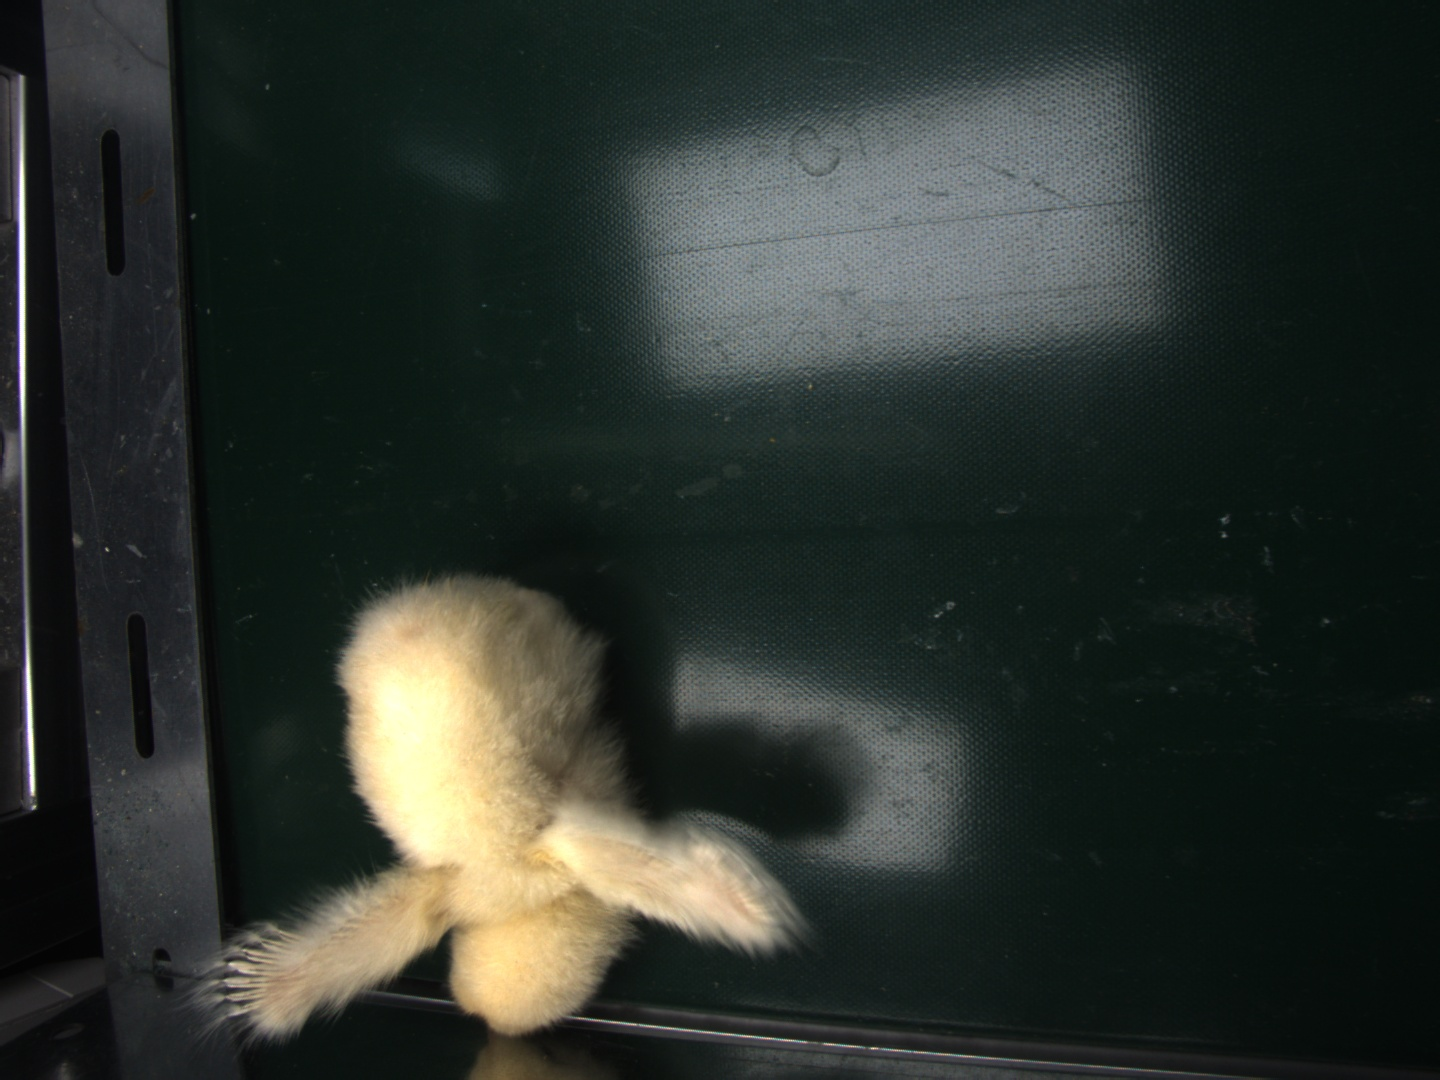male: (220, 928, 295, 1012)
